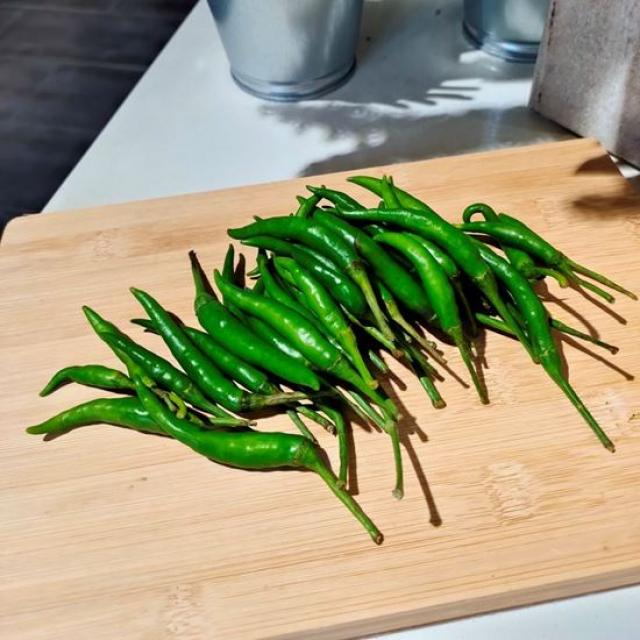green chilli: (26, 382, 382, 545), (478, 242, 616, 452), (215, 276, 397, 415), (341, 208, 520, 330), (228, 216, 393, 339), (378, 234, 489, 403), (130, 289, 246, 413), (195, 293, 321, 390), (275, 259, 372, 385), (99, 332, 220, 415), (356, 232, 435, 322)
